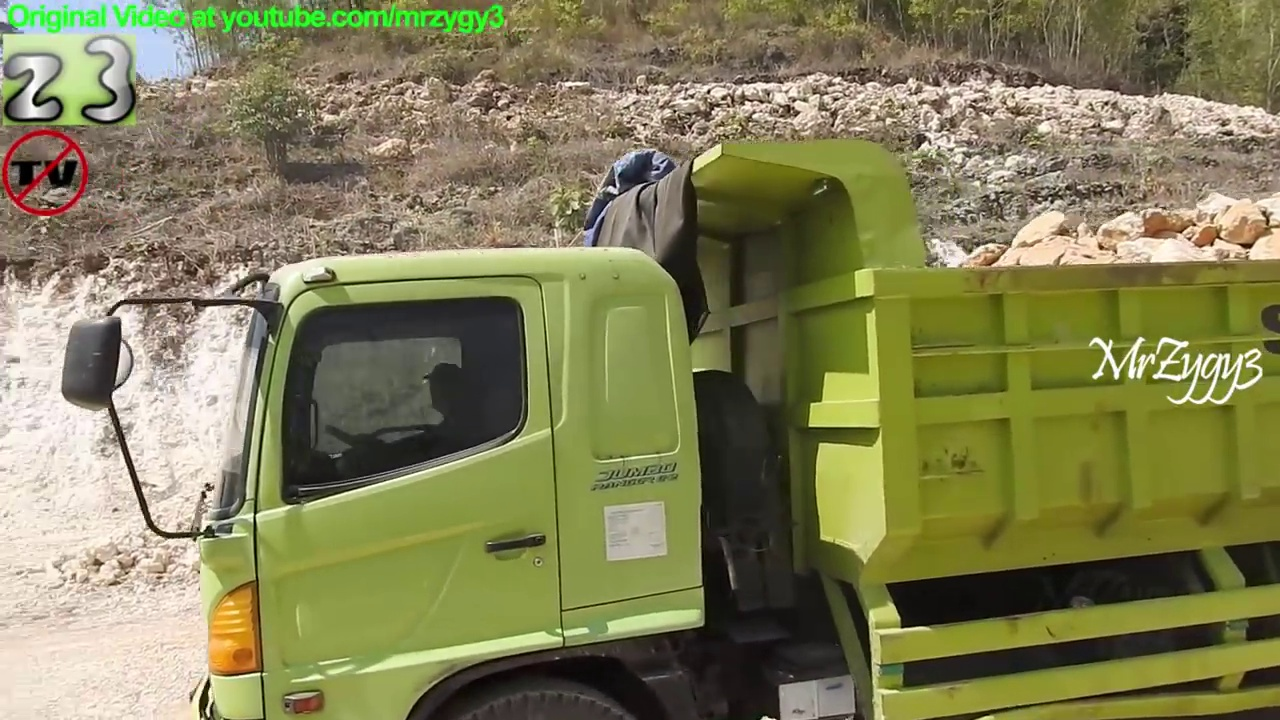truck: (53, 131, 1280, 720)
